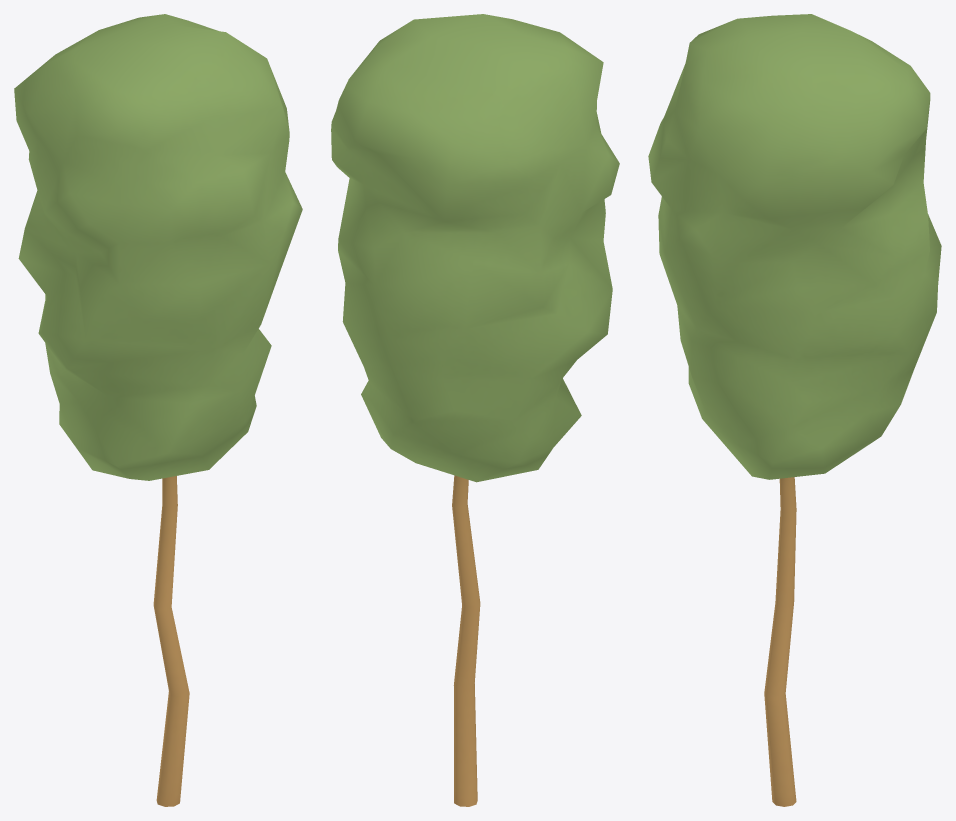
The model's file is grape.glb.
3 renders of one model, left to right at view 1: azimuth 30°, elevation 25°; view 2: azimuth 150°, elevation 25°; view 3: azimuth 270°, elevation 25°, orthographic.
Visible parts, largest first — view 1: Loza; view 2: Loza; view 3: Loza.
Part boxes in pixels (x1,y1,x2,y2): Loza: (14, 14, 302, 806); Loza: (331, 14, 619, 806); Loza: (648, 14, 941, 806).
Bounding box in the file's own units: 2.35 × 7.38 × 2.57.
1 material, 1 textured.
